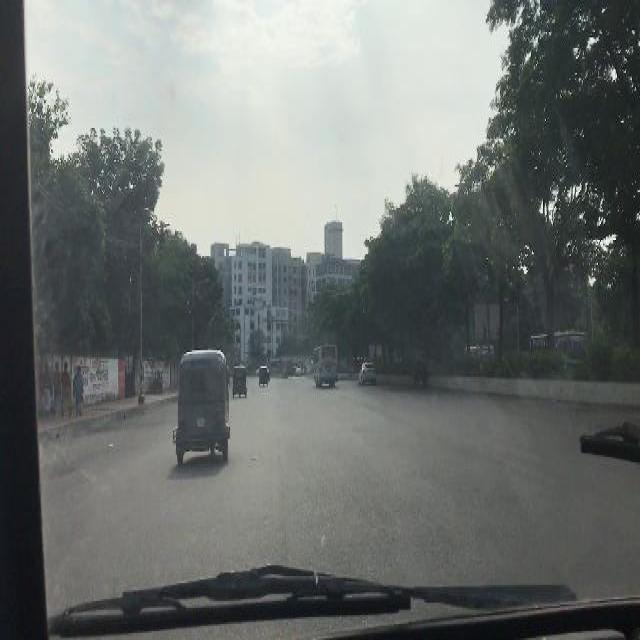bus: (530, 329, 588, 361), (313, 345, 337, 384), (464, 341, 494, 359)
car: (358, 361, 377, 386)
three wheelers -CNG-: (174, 348, 230, 458), (232, 364, 246, 394), (258, 366, 268, 384)
